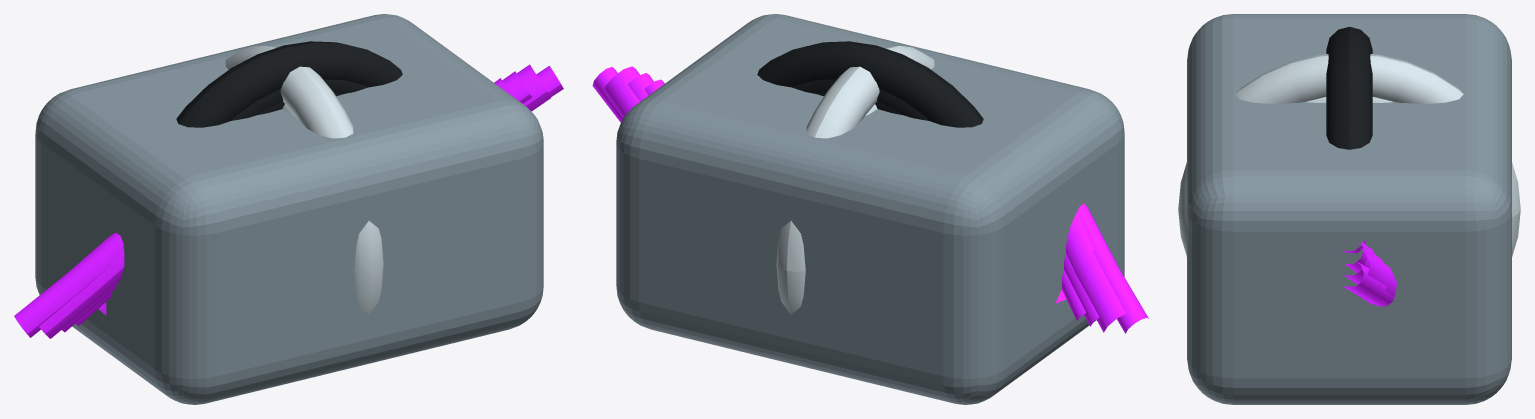
Rendered from electrical_05.glb.
3 renders of one model, left to right at view 1: azimuth 30°, elevation 25°; view 2: azimuth 150°, elevation 25°; view 3: azimuth 270°, elevation 25°, orthographic. The views are drawn at different scales.
Visible parts, largest first — view 1: asset_mesh__electrical_0188__reference_body, asset_mesh__electrical_0187__service_element, asset_mesh__electrical_0213__functional_ring, asset_mesh__electrical_0240__current_path, asset_mesh__electrical_0194__current_path, asset_mesh__electrical_0203__service_element, asset_mesh__electrical_0229__current_path; view 2: asset_mesh__electrical_0188__reference_body, asset_mesh__electrical_0187__service_element, asset_mesh__electrical_0213__functional_ring, asset_mesh__electrical_0194__current_path, asset_mesh__electrical_0240__current_path, asset_mesh__electrical_0229__current_path, asset_mesh__electrical_0203__service_element, asset_mesh__electrical_0228__current_path; view 3: asset_mesh__electrical_0188__reference_body, asset_mesh__electrical_0213__functional_ring, asset_mesh__electrical_0187__service_element, asset_mesh__electrical_0240__current_path, asset_mesh__electrical_0194__current_path.
Boxes of the visible parts, bbox=[...] form: asset_mesh__electrical_0188__reference_body: bbox=[35, 14, 543, 404]; asset_mesh__electrical_0187__service_element: bbox=[176, 41, 402, 127]; asset_mesh__electrical_0213__functional_ring: bbox=[225, 46, 383, 314]; asset_mesh__electrical_0240__current_path: bbox=[14, 65, 563, 337]; asset_mesh__electrical_0194__current_path: bbox=[39, 64, 550, 338]; asset_mesh__electrical_0203__service_element: bbox=[231, 79, 367, 120]; asset_mesh__electrical_0229__current_path: bbox=[62, 71, 532, 332]; asset_mesh__electrical_0188__reference_body: bbox=[616, 14, 1124, 404]; asset_mesh__electrical_0187__service_element: bbox=[757, 41, 983, 127]; asset_mesh__electrical_0213__functional_ring: bbox=[776, 46, 934, 314]; asset_mesh__electrical_0194__current_path: bbox=[604, 66, 1125, 332]; asset_mesh__electrical_0240__current_path: bbox=[592, 67, 1148, 333]; asset_mesh__electrical_0229__current_path: bbox=[628, 73, 1099, 326]; asset_mesh__electrical_0203__service_element: bbox=[792, 79, 928, 120]; asset_mesh__electrical_0228__current_path: bbox=[644, 79, 1085, 320]; asset_mesh__electrical_0188__reference_body: bbox=[1187, 14, 1511, 404]; asset_mesh__electrical_0213__functional_ring: bbox=[1178, 54, 1520, 256]; asset_mesh__electrical_0187__service_element: bbox=[1326, 26, 1372, 149]; asset_mesh__electrical_0240__current_path: bbox=[1345, 261, 1393, 306]; asset_mesh__electrical_0194__current_path: bbox=[1343, 246, 1396, 304].
Bounding box in the file's own units: 1.54 × 0.8732 × 0.815.
